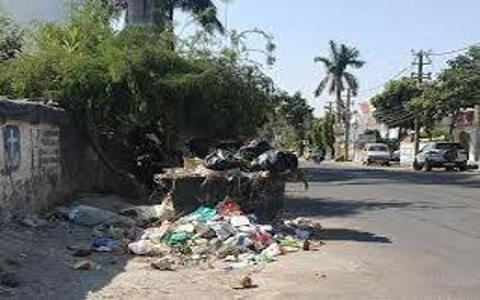overflowing garbage: (149, 152, 326, 273)
